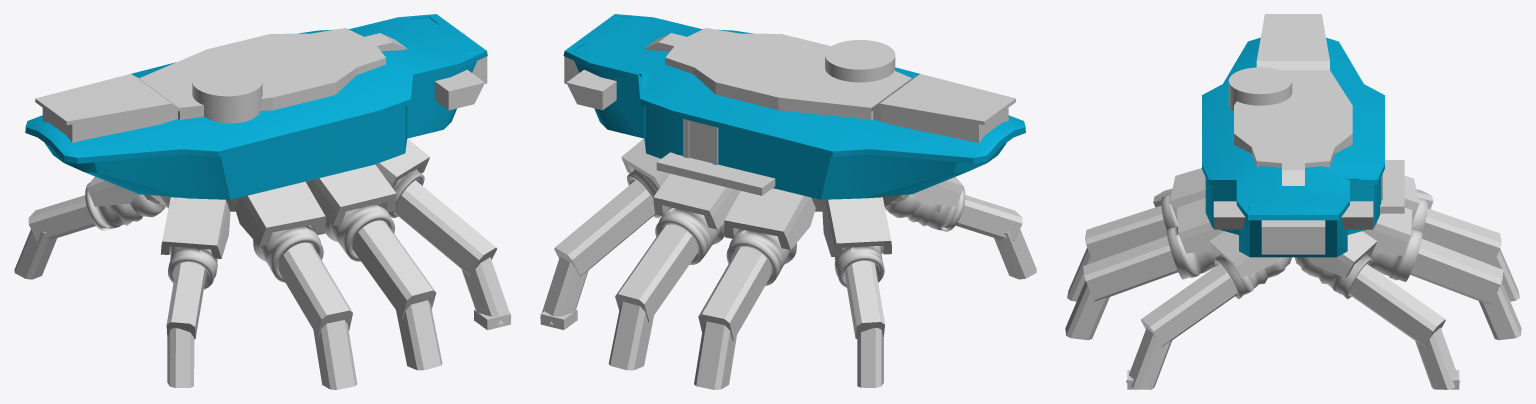
File: SpiderRig.fbx
The picture shows the model from 3 angles, left to right: view 1: azimuth 30°, elevation 25°; view 2: azimuth 150°, elevation 25°; view 3: azimuth 270°, elevation 25°; orthographic projection. The views are drawn at different scales.
Visible parts, largest first — view 1: Cube.034, Cube.036, Cube.009, Cube.011, Cube.013, Cube.045, Cylinder.002, Cube.046, Cube.044, Cube.014, Cube.012, Cube.015 (+13 smaller); view 2: Cube.034, Cube.036, Cube.001, Cube.003, Cube.041, Cube.005, Cube.042, Cube.040, Cylinder.002, Catwalk, Cube.007, Cube.004 (+16 smaller); view 3: Cube.034, Cube.036, Cube.031, Cube.011, Cube.009, Cube.001, Cube.003, Cube.013, Cube.005, Cylinder.002, Cube.044, Cube.040 (+15 smaller).
Part boxes in pixels (x1,y1,x2,y2): Cube.034: [25, 14, 487, 199]; Cube.036: [35, 28, 407, 142]; Cube.009: [394, 180, 496, 276]; Cube.011: [352, 220, 436, 318]; Cube.013: [278, 242, 352, 337]; Cube.045: [235, 181, 325, 246]; Cylinder.002: [192, 66, 262, 123]; Cube.046: [160, 197, 230, 258]; Cube.044: [307, 164, 396, 225]; Cube.014: [313, 320, 357, 389]; Cube.012: [396, 300, 442, 370]; Cube.015: [166, 262, 206, 339]; Cube.034: [563, 14, 1025, 199]; Cube.036: [644, 28, 1015, 142]; Cube.001: [554, 180, 655, 276]; Cube.003: [615, 224, 698, 322]; Cube.041: [724, 188, 815, 249]; Cube.005: [698, 246, 771, 340]; Cube.042: [822, 197, 891, 256]; Cube.040: [653, 173, 740, 229]; Cylinder.002: [825, 40, 895, 82]; Catwalk: [656, 152, 775, 195]; Cube.007: [844, 260, 884, 338]; Cube.004: [608, 301, 653, 370]; Cube.034: [1202, 37, 1384, 257]; Cube.036: [1234, 14, 1352, 185]; Cube.031: [1213, 201, 1373, 254]; Cube.011: [1083, 236, 1177, 301]; Cube.009: [1141, 264, 1237, 346]; Cube.001: [1349, 264, 1445, 346]; Cube.003: [1410, 239, 1503, 304]; Cube.013: [1085, 205, 1166, 262]; Cube.005: [1422, 208, 1501, 265]; Cylinder.002: [1228, 67, 1292, 110]; Cube.044: [1177, 198, 1223, 253]; Cube.040: [1362, 207, 1412, 255].
Size of the model in its own units: 1391 by 753 by 1433.
